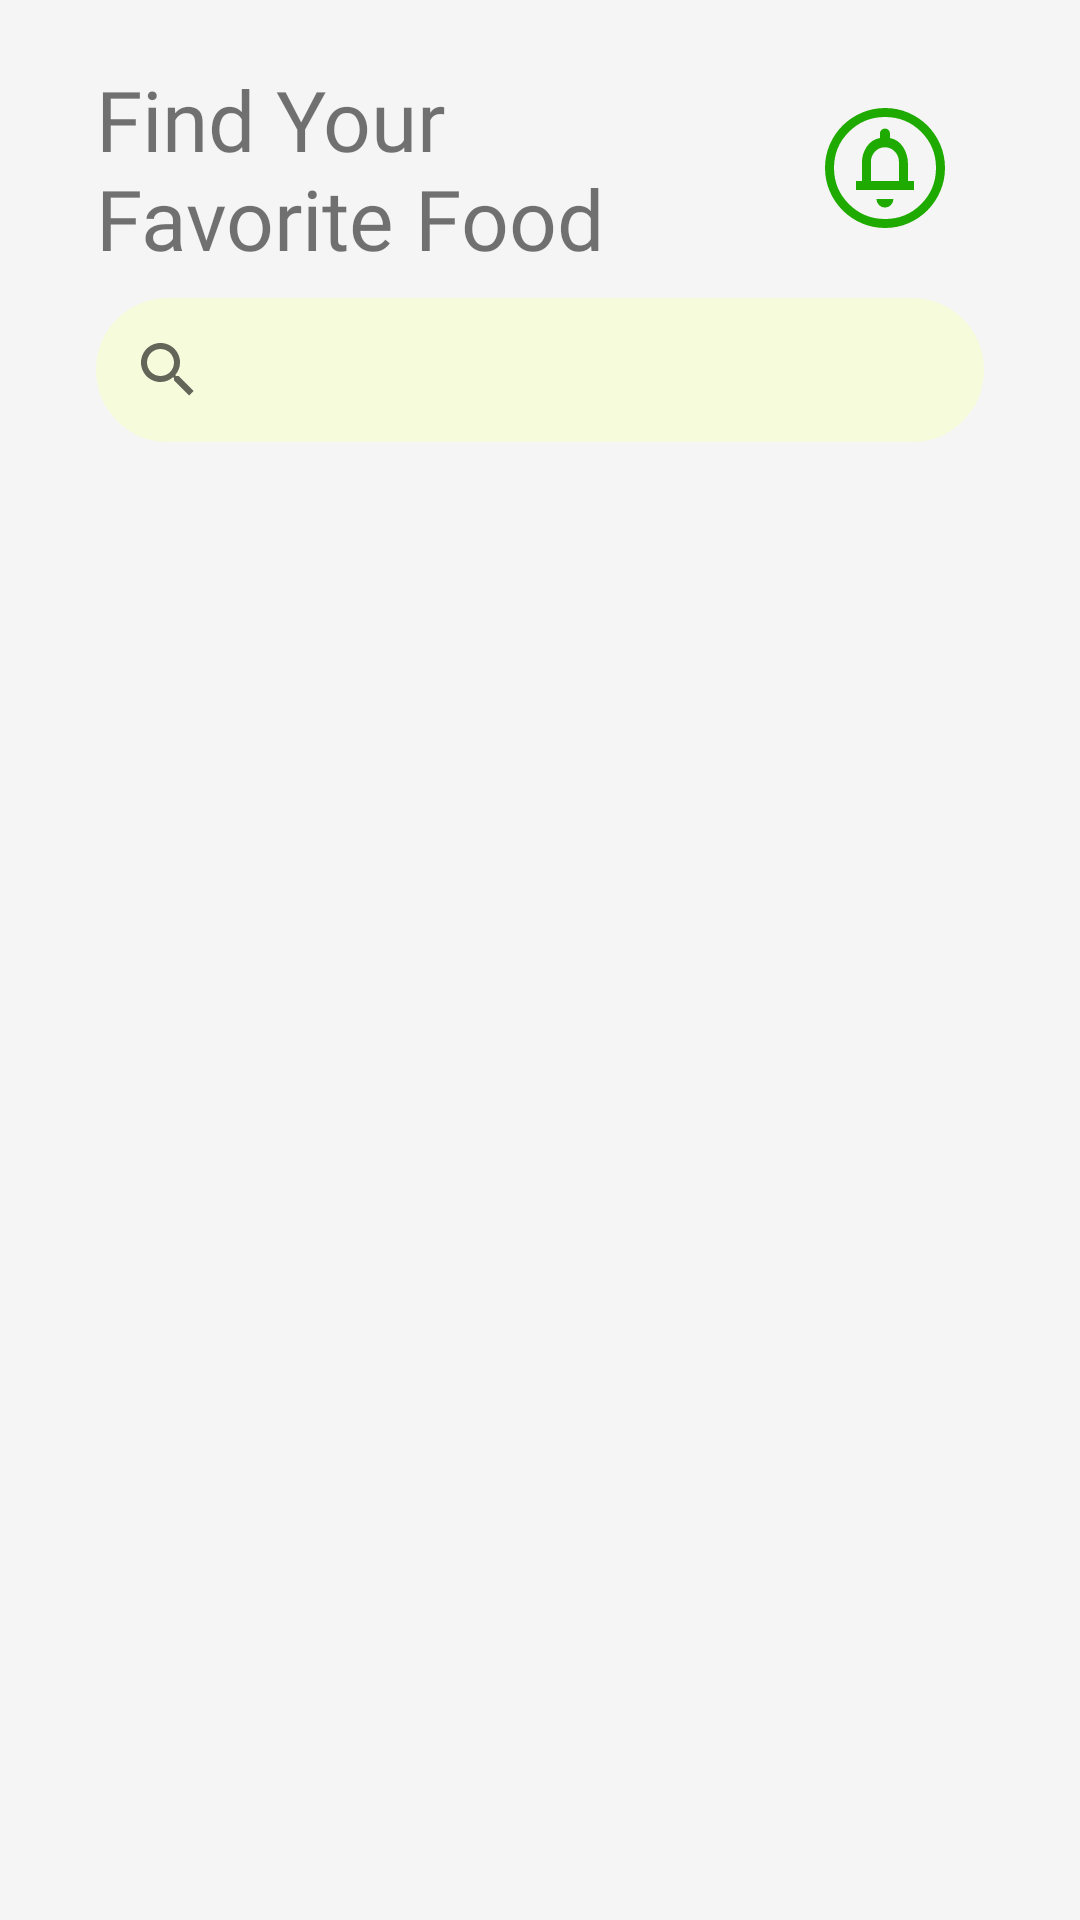

Icon bounding boxes for this 1080px x 1920px phone screenshot, format (x1, y1, x2, y2):
circle notifications: (825, 108, 945, 228)
